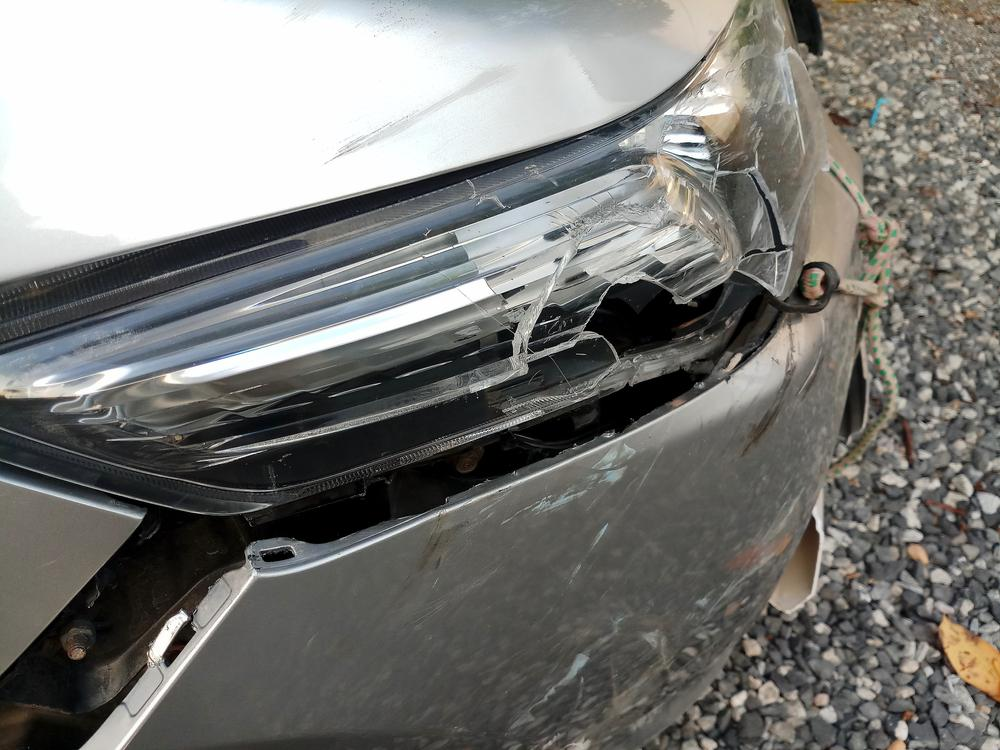lamp broken: (0, 0, 820, 545)
scratch: (402, 422, 671, 605), (322, 62, 533, 171), (732, 313, 827, 464)
